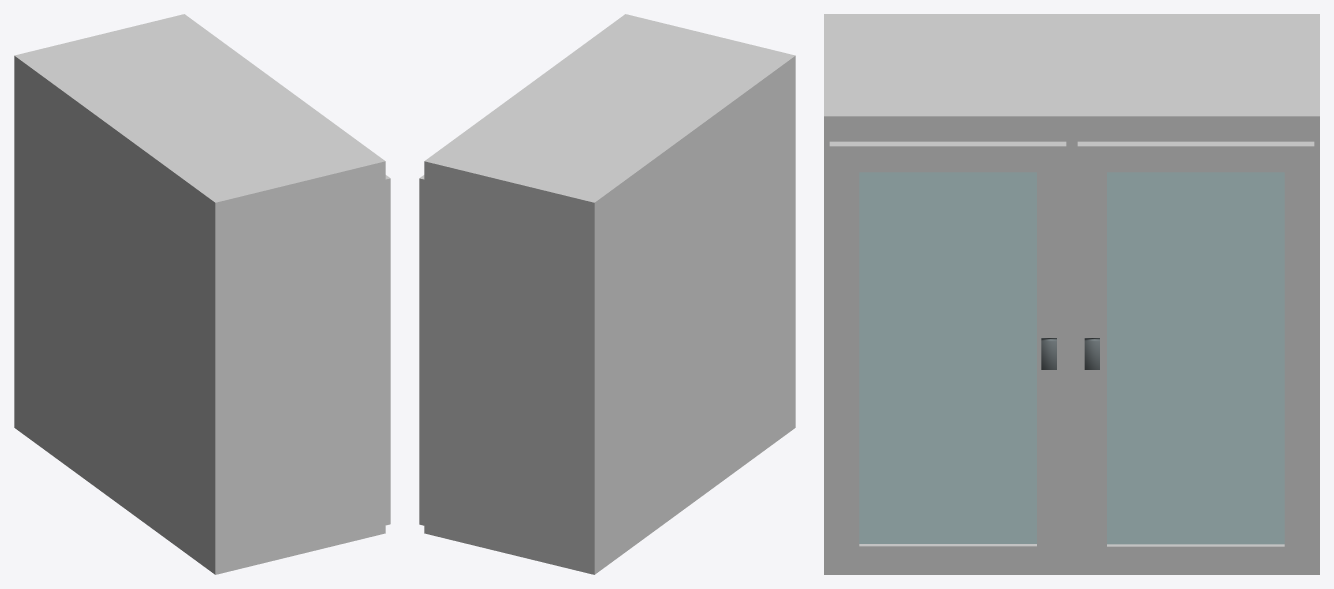
File: CabinetMedicine.fbx
The picture shows the model from 3 angles, left to right: view 1: azimuth 30°, elevation 25°; view 2: azimuth 150°, elevation 25°; view 3: azimuth 270°, elevation 25°; orthographic projection. The views are drawn at different scales.
Parts seen in each view (by area): view 1: Cube.057; view 2: Cube.057; view 3: Cube.057.
Part boxes in pixels (bbox=[...]): Cube.057: bbox=[14, 14, 390, 574]; Cube.057: bbox=[419, 14, 795, 574]; Cube.057: bbox=[824, 14, 1319, 574].
Size of the model in its own units: 49.94 by 96.9 by 94.93.
